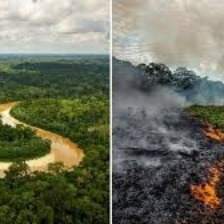incendio: (128, 102, 180, 145), (174, 123, 222, 157), (189, 166, 222, 213)
